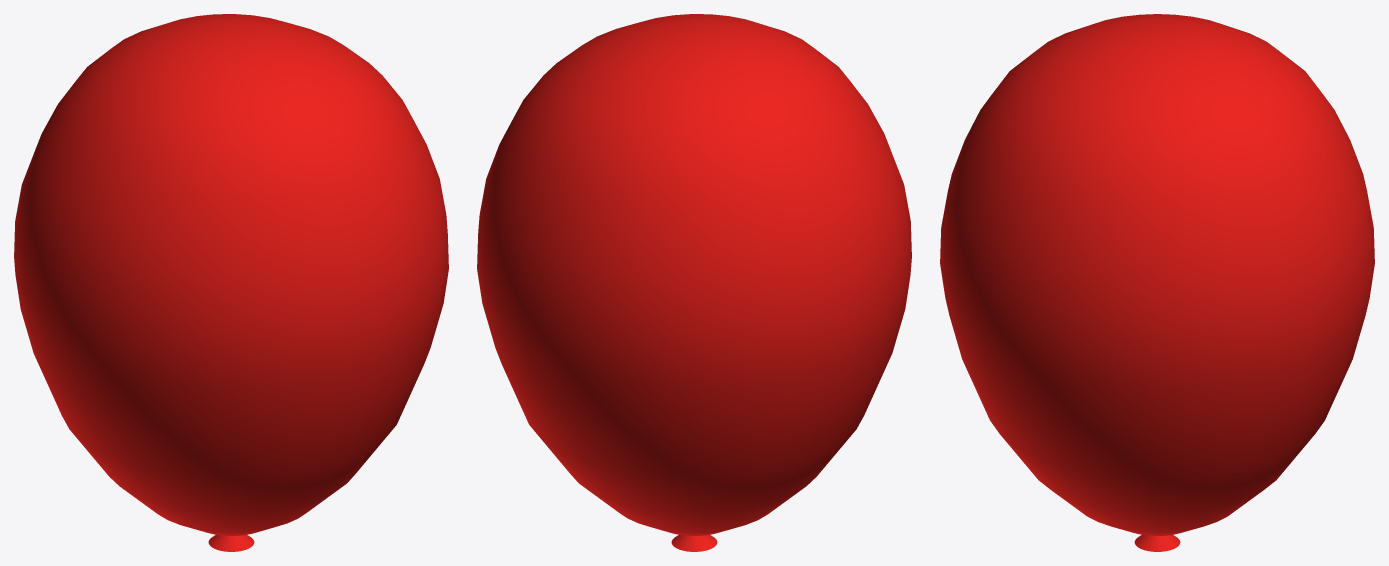
Rendered from baudruche.gltf.
The picture shows the model from 3 angles, left to right: view 1: azimuth 30°, elevation 25°; view 2: azimuth 150°, elevation 25°; view 3: azimuth 270°, elevation 25°; orthographic projection.
Visible parts, largest first — view 1: ballon; view 2: ballon; view 3: ballon.
Part boxes in pixels (<box>): ballon: <box>14,14,448,551</box>; ballon: <box>477,14,911,551</box>; ballon: <box>940,14,1374,551</box>.
Bounding box in the file's own units: 2.05 × 2.63 × 2.05.
